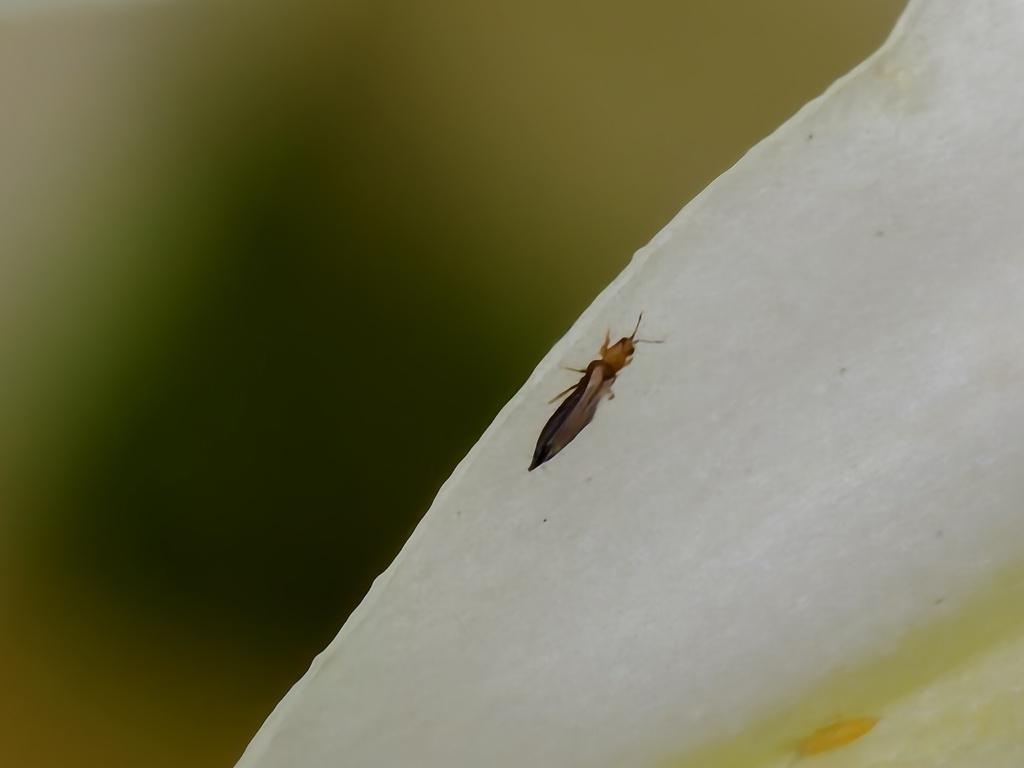tiny_pests: (494, 296, 681, 497)
